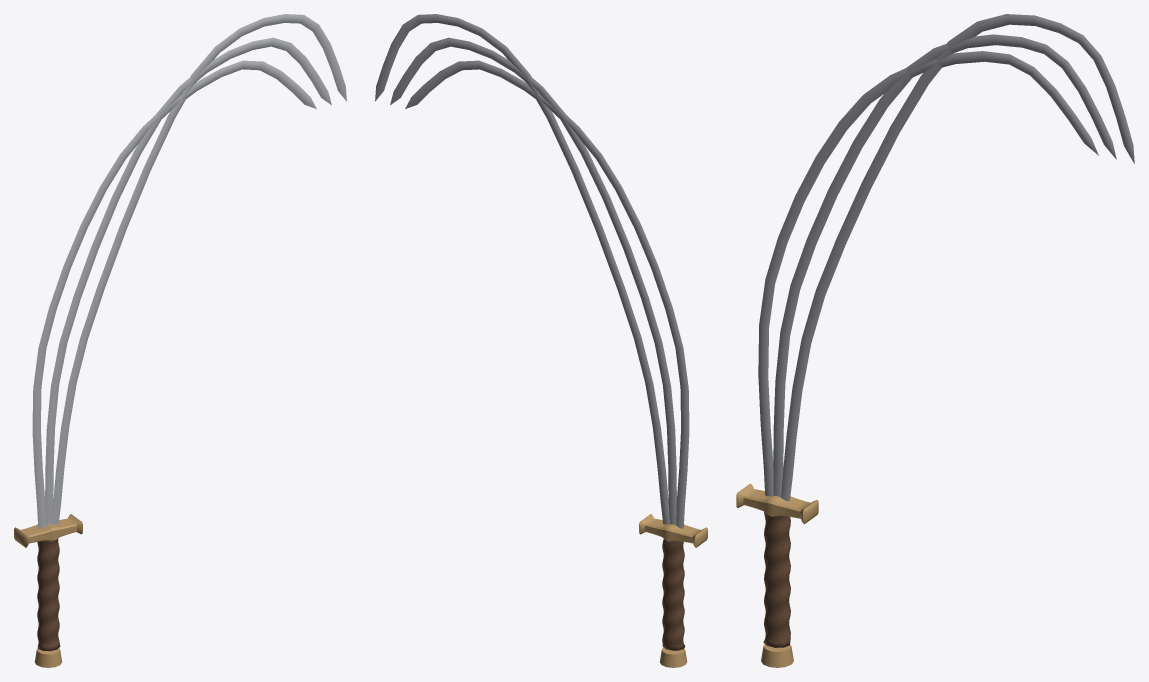
File: urumi.glb
3 views of the same model, side by side, from view 1: azimuth 30°, elevation 25°; view 2: azimuth 150°, elevation 25°; view 3: azimuth 330°, elevation 25° (orthographic). The views are drawn at different scales.
Parts seen in each view (by area): view 1: urumi; view 2: urumi; view 3: urumi.
Part boxes in pixels (left/top/right/bottom): urumi: left=14, top=14, right=346, bottom=667; urumi: left=375, top=14, right=707, bottom=667; urumi: left=736, top=14, right=1134, bottom=667.
Bounding box in the file's own units: 1.1 × 1.9 × 0.08.
